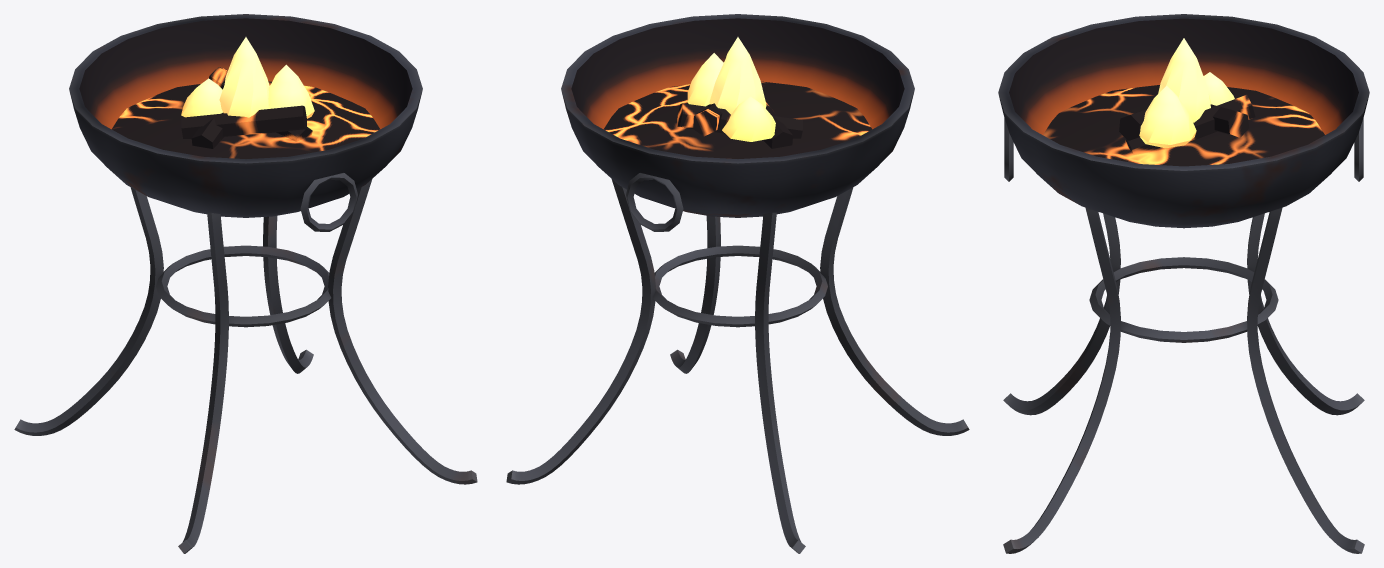
Rendered from braseiro.glb.
3 renders of one model, left to right at view 1: azimuth 30°, elevation 25°; view 2: azimuth 150°, elevation 25°; view 3: azimuth 270°, elevation 25°, orthographic. The views are drawn at different scales.
Parts seen in each view (by area): view 1: braseiro; view 2: braseiro; view 3: braseiro.
Part boxes in pixels (<box>): braseiro: <box>14,14,477,553</box>; braseiro: <box>506,14,969,553</box>; braseiro: <box>998,14,1369,553</box>.
Bounding box in the file's own units: 0.86 × 1.14 × 0.86.
1 material, 1 textured.
